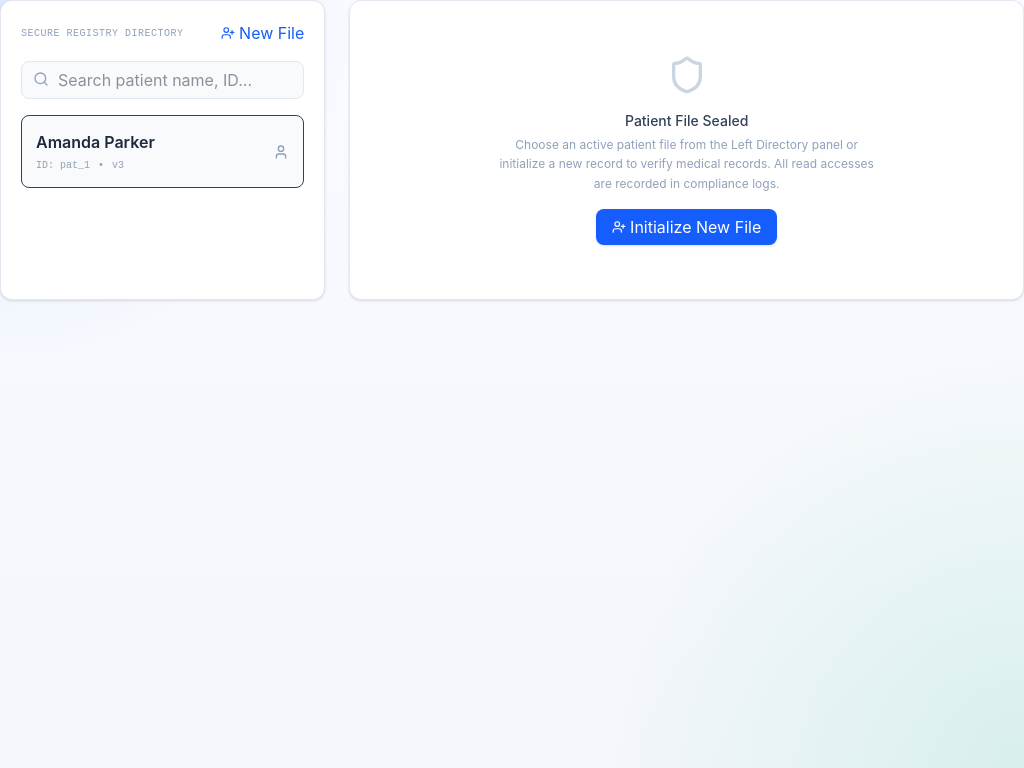
PatientWorkspace create and edit flows › requires a name and a HIPAA justification before creating a file
Click the button "New File": {"x": 263, "y": 33} [221, 21, 304, 45]
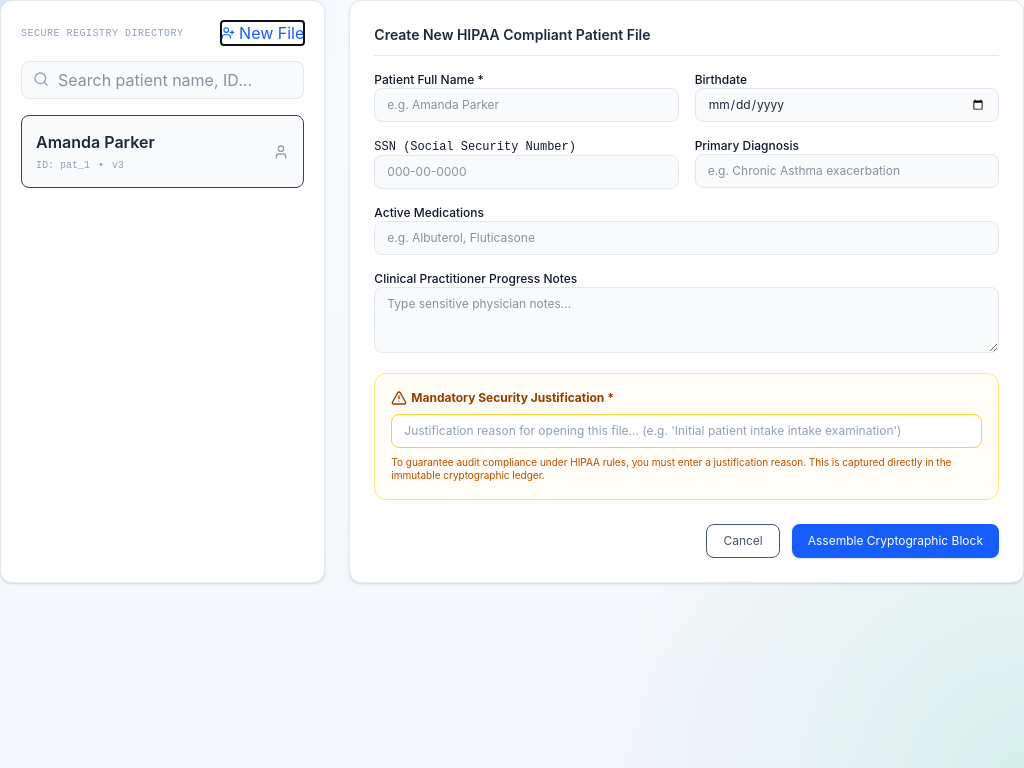
Submit the form, box [349, 0, 1023, 583]
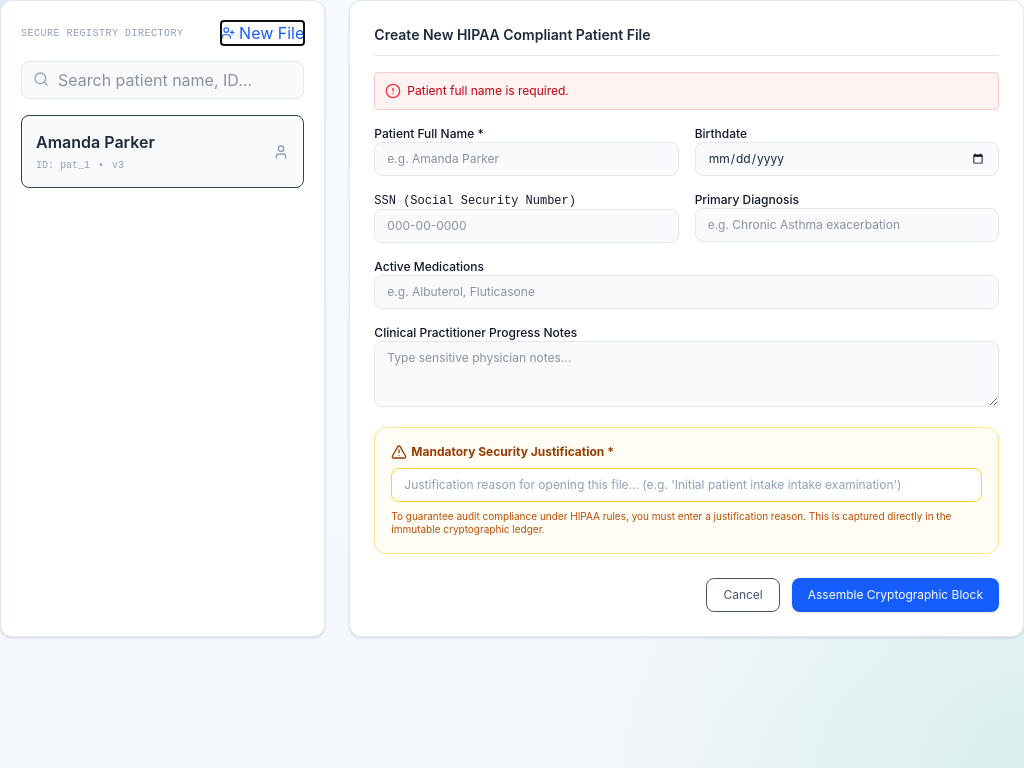
Expected: the text "Patient full name is required." is shown, [374, 72, 999, 110]
In the field with placeholder "e.g. Amanda Parker": {"x": 526, "y": 159} [374, 142, 679, 176], type "Nadia Reyes"
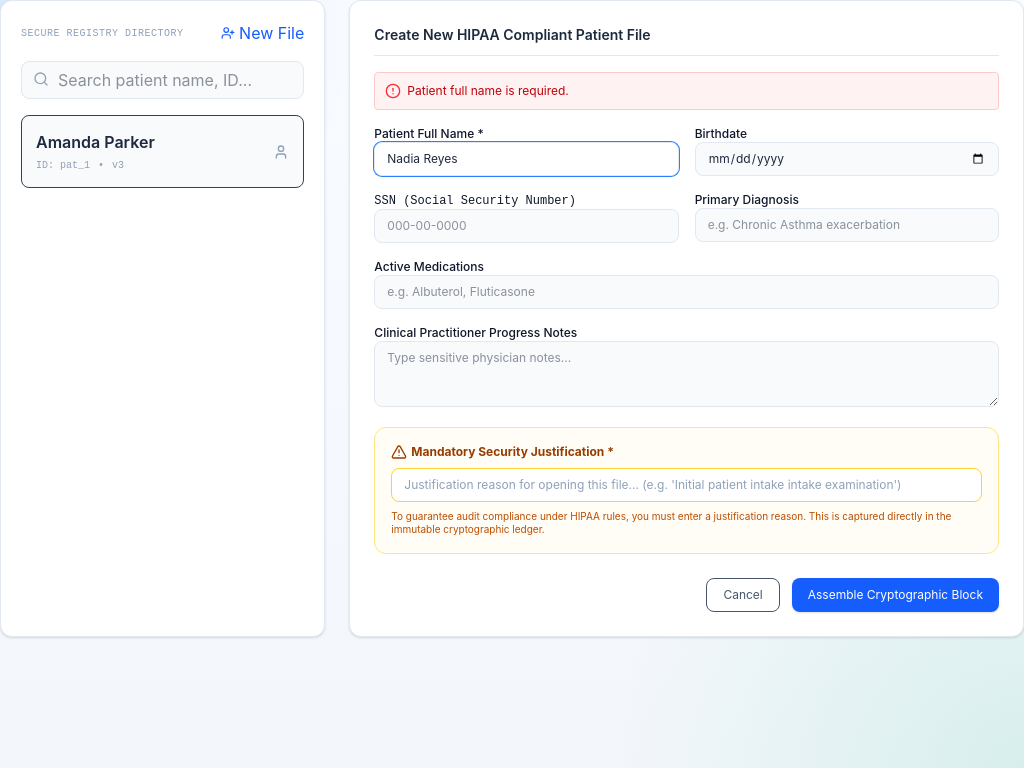
Submit the form, box [349, 0, 1023, 637]
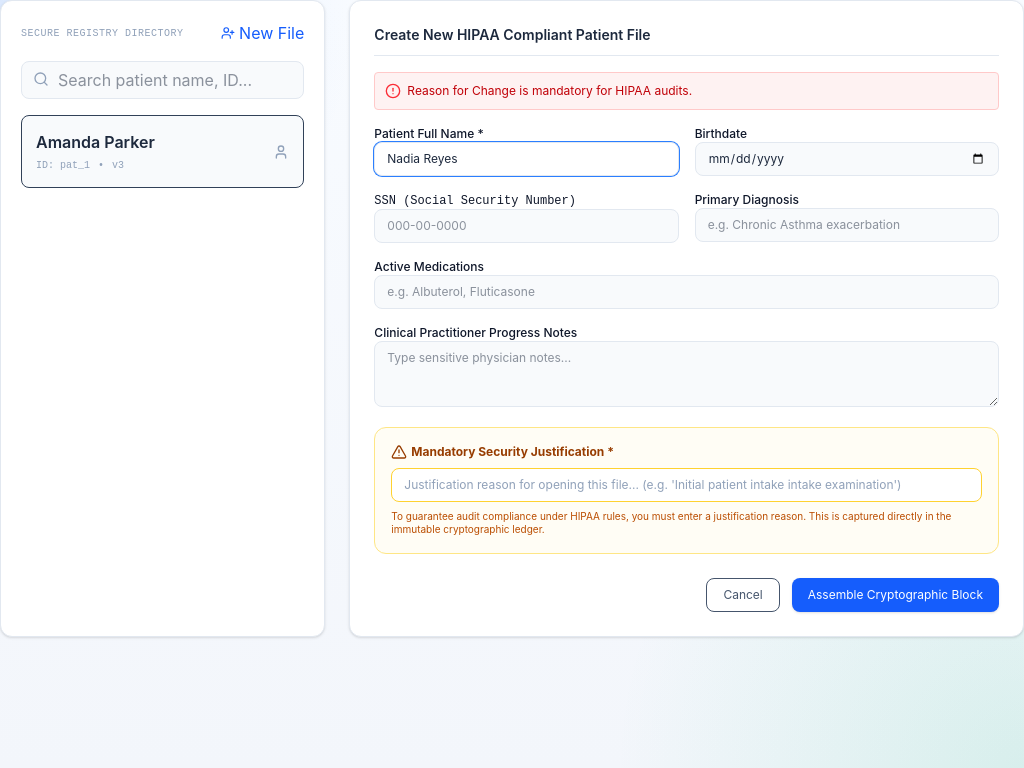
Expected: the text "Reason for Change is mandatory for HIPAA audits." is shown, [374, 72, 999, 110]
